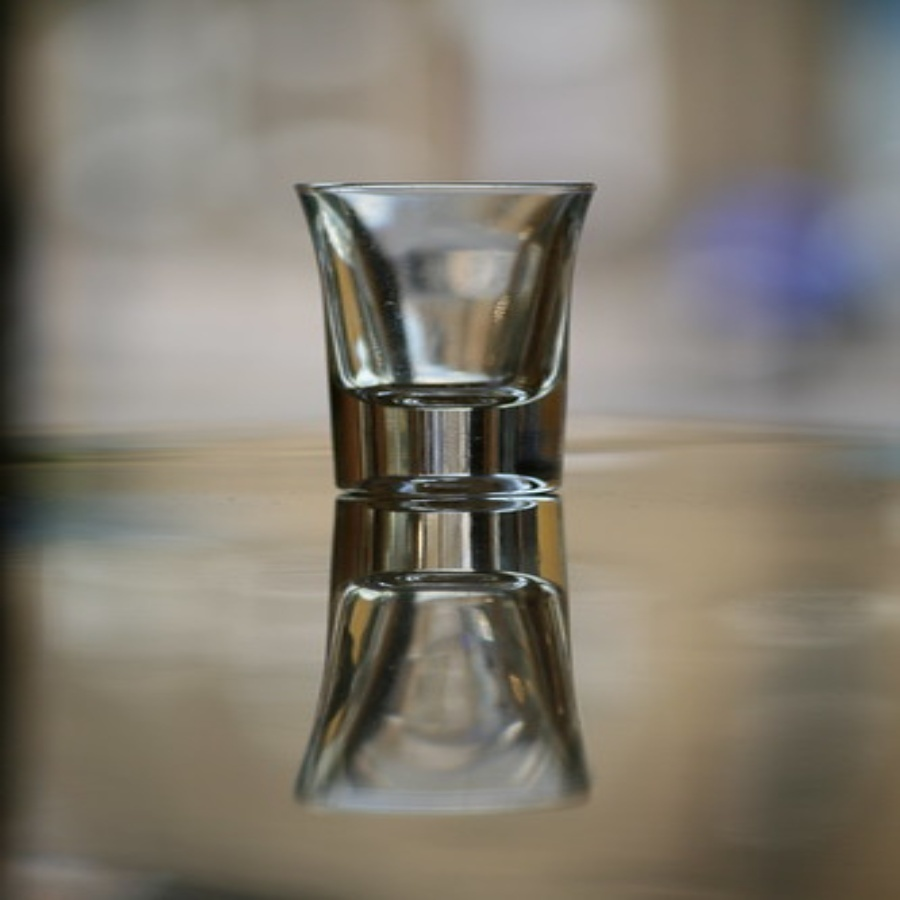whiskey: (301, 173, 609, 496)
